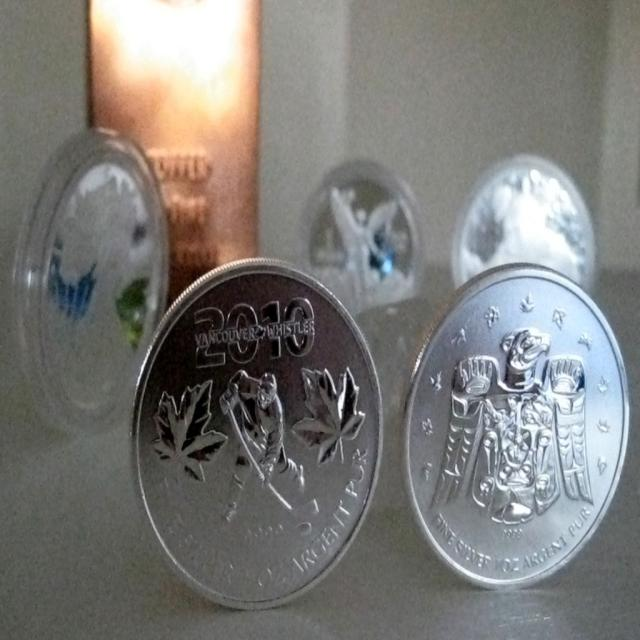Coin: (131, 258, 383, 610), (401, 264, 629, 592)
